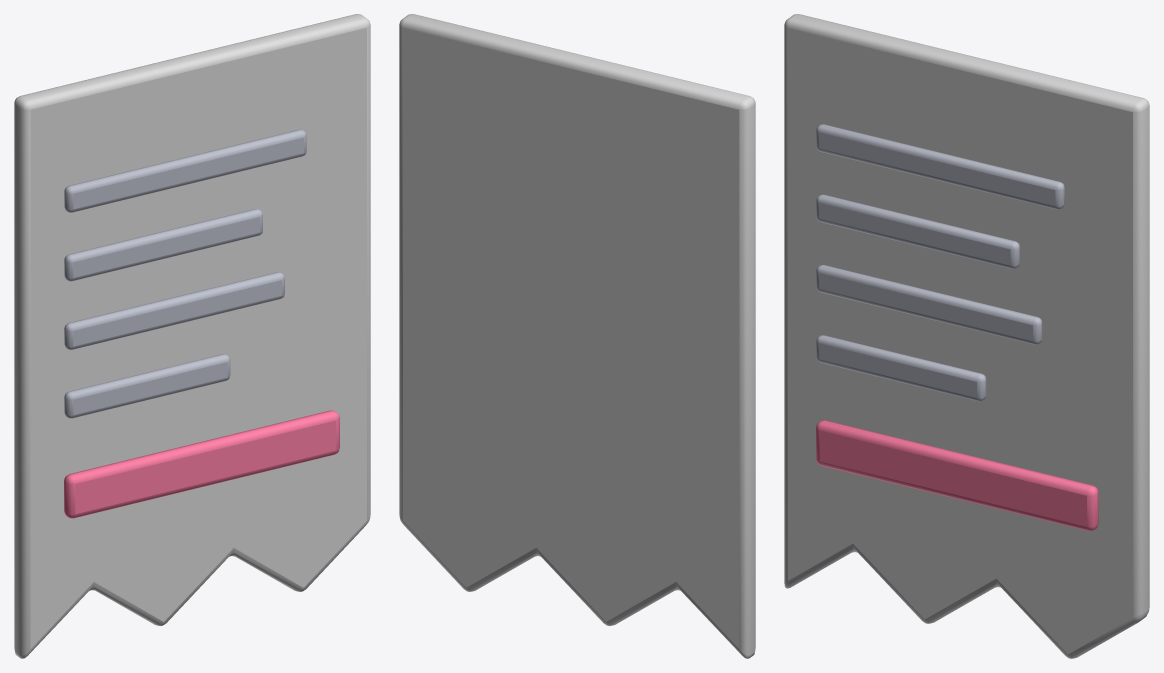
File: receipt.glb
3 renders of one model, left to right at view 1: azimuth 30°, elevation 25°; view 2: azimuth 150°, elevation 25°; view 3: azimuth 330°, elevation 25°, orthographic. The views are drawn at different scales.
Parts seen in each view (by area): view 1: paper, cb9bdca, total; view 2: paper; view 3: paper, cb9bdca, total.
Part boxes in pixels (<box>): paper: <box>14,14,370,658</box>; cb9bdca: <box>64,129,306,418</box>; total: <box>64,410,339,518</box>; paper: <box>399,14,755,658</box>; paper: <box>784,14,1149,658</box>; cb9bdca: <box>816,124,1064,401</box>; total: <box>816,420,1098,530</box>.
Size of the model in its own units: 0.64 by 0.9757 by 0.0625.
